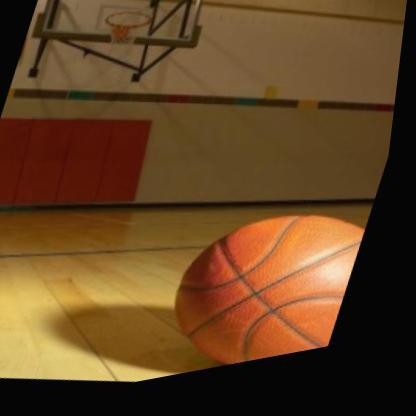basketball: (153, 186, 382, 388)
